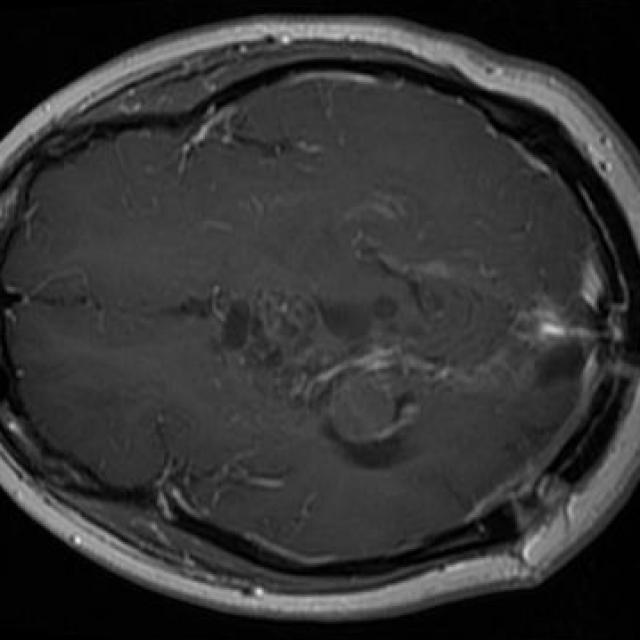glioma: (223, 291, 567, 471)
